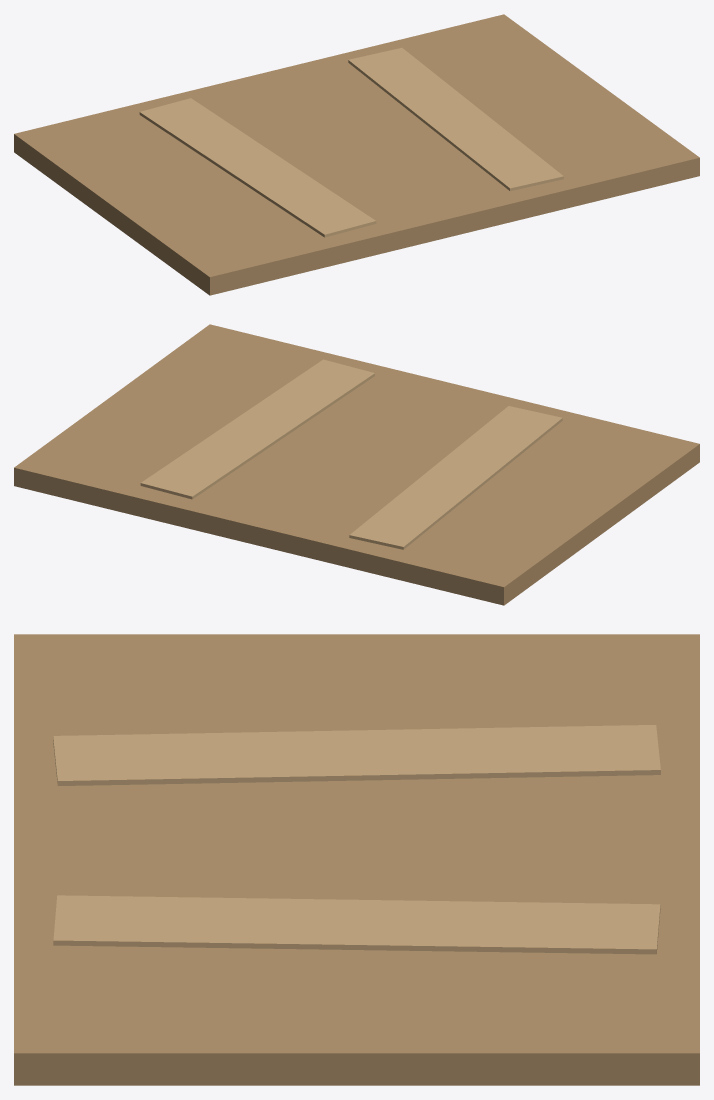
File: track_dirt_2lane.glb
3 renders of one model, top to bottom at view 1: azimuth 30°, elevation 25°; view 2: azimuth 150°, elevation 25°; view 3: azimuth 270°, elevation 25°, orthographic. The views are drawn at different scales.
Parts seen in each view (by area): view 1: track_dirt_2lane; view 2: track_dirt_2lane; view 3: track_dirt_2lane.
Part boxes in pixels (left/top/right/bottom): track_dirt_2lane: left=14, top=14, right=699, bottom=295; track_dirt_2lane: left=14, top=324, right=699, bottom=605; track_dirt_2lane: left=14, top=634, right=699, bottom=1085.
Bounding box in the file's own units: 4.45 × 0.1905 × 3.08.
